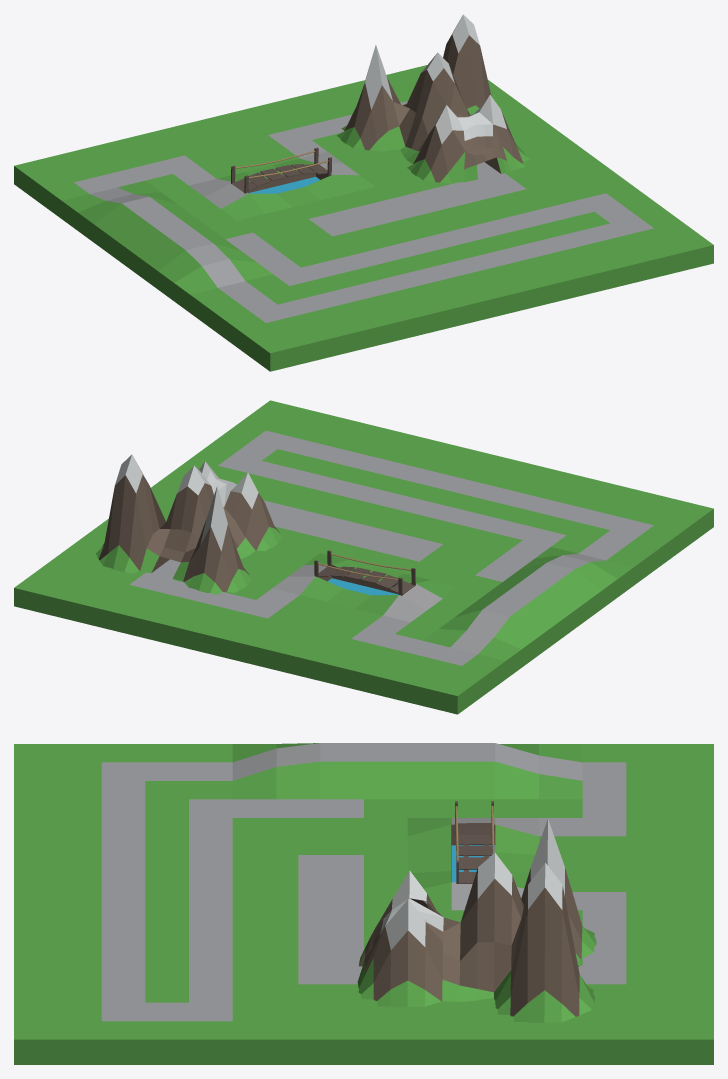
Rendered from sceneCourse.fbx.
The picture shows the model from 3 angles, top to bottom: view 1: azimuth 30°, elevation 25°; view 2: azimuth 150°, elevation 25°; view 3: azimuth 270°, elevation 25°; orthographic projection. The views are drawn at different scales.
Parts seen in each view (by area): view 1: Plane, Mountain; view 2: Plane, Mountain; view 3: Plane, Mountain.
Boxes of the visible parts, x1=… form: Plane: x1=14, y1=65, x2=713, y2=371; Mountain: x1=337, y1=14, x2=530, y2=183; Plane: x1=14, y1=400, x2=713, y2=714; Mountain: x1=96, y1=454, x2=282, y2=594; Plane: x1=14, y1=743, x2=713, y2=1064; Mountain: x1=357, y1=819, x2=596, y2=1022.
Bounding box in the file's own units: 9448 × 2675 × 9448.
